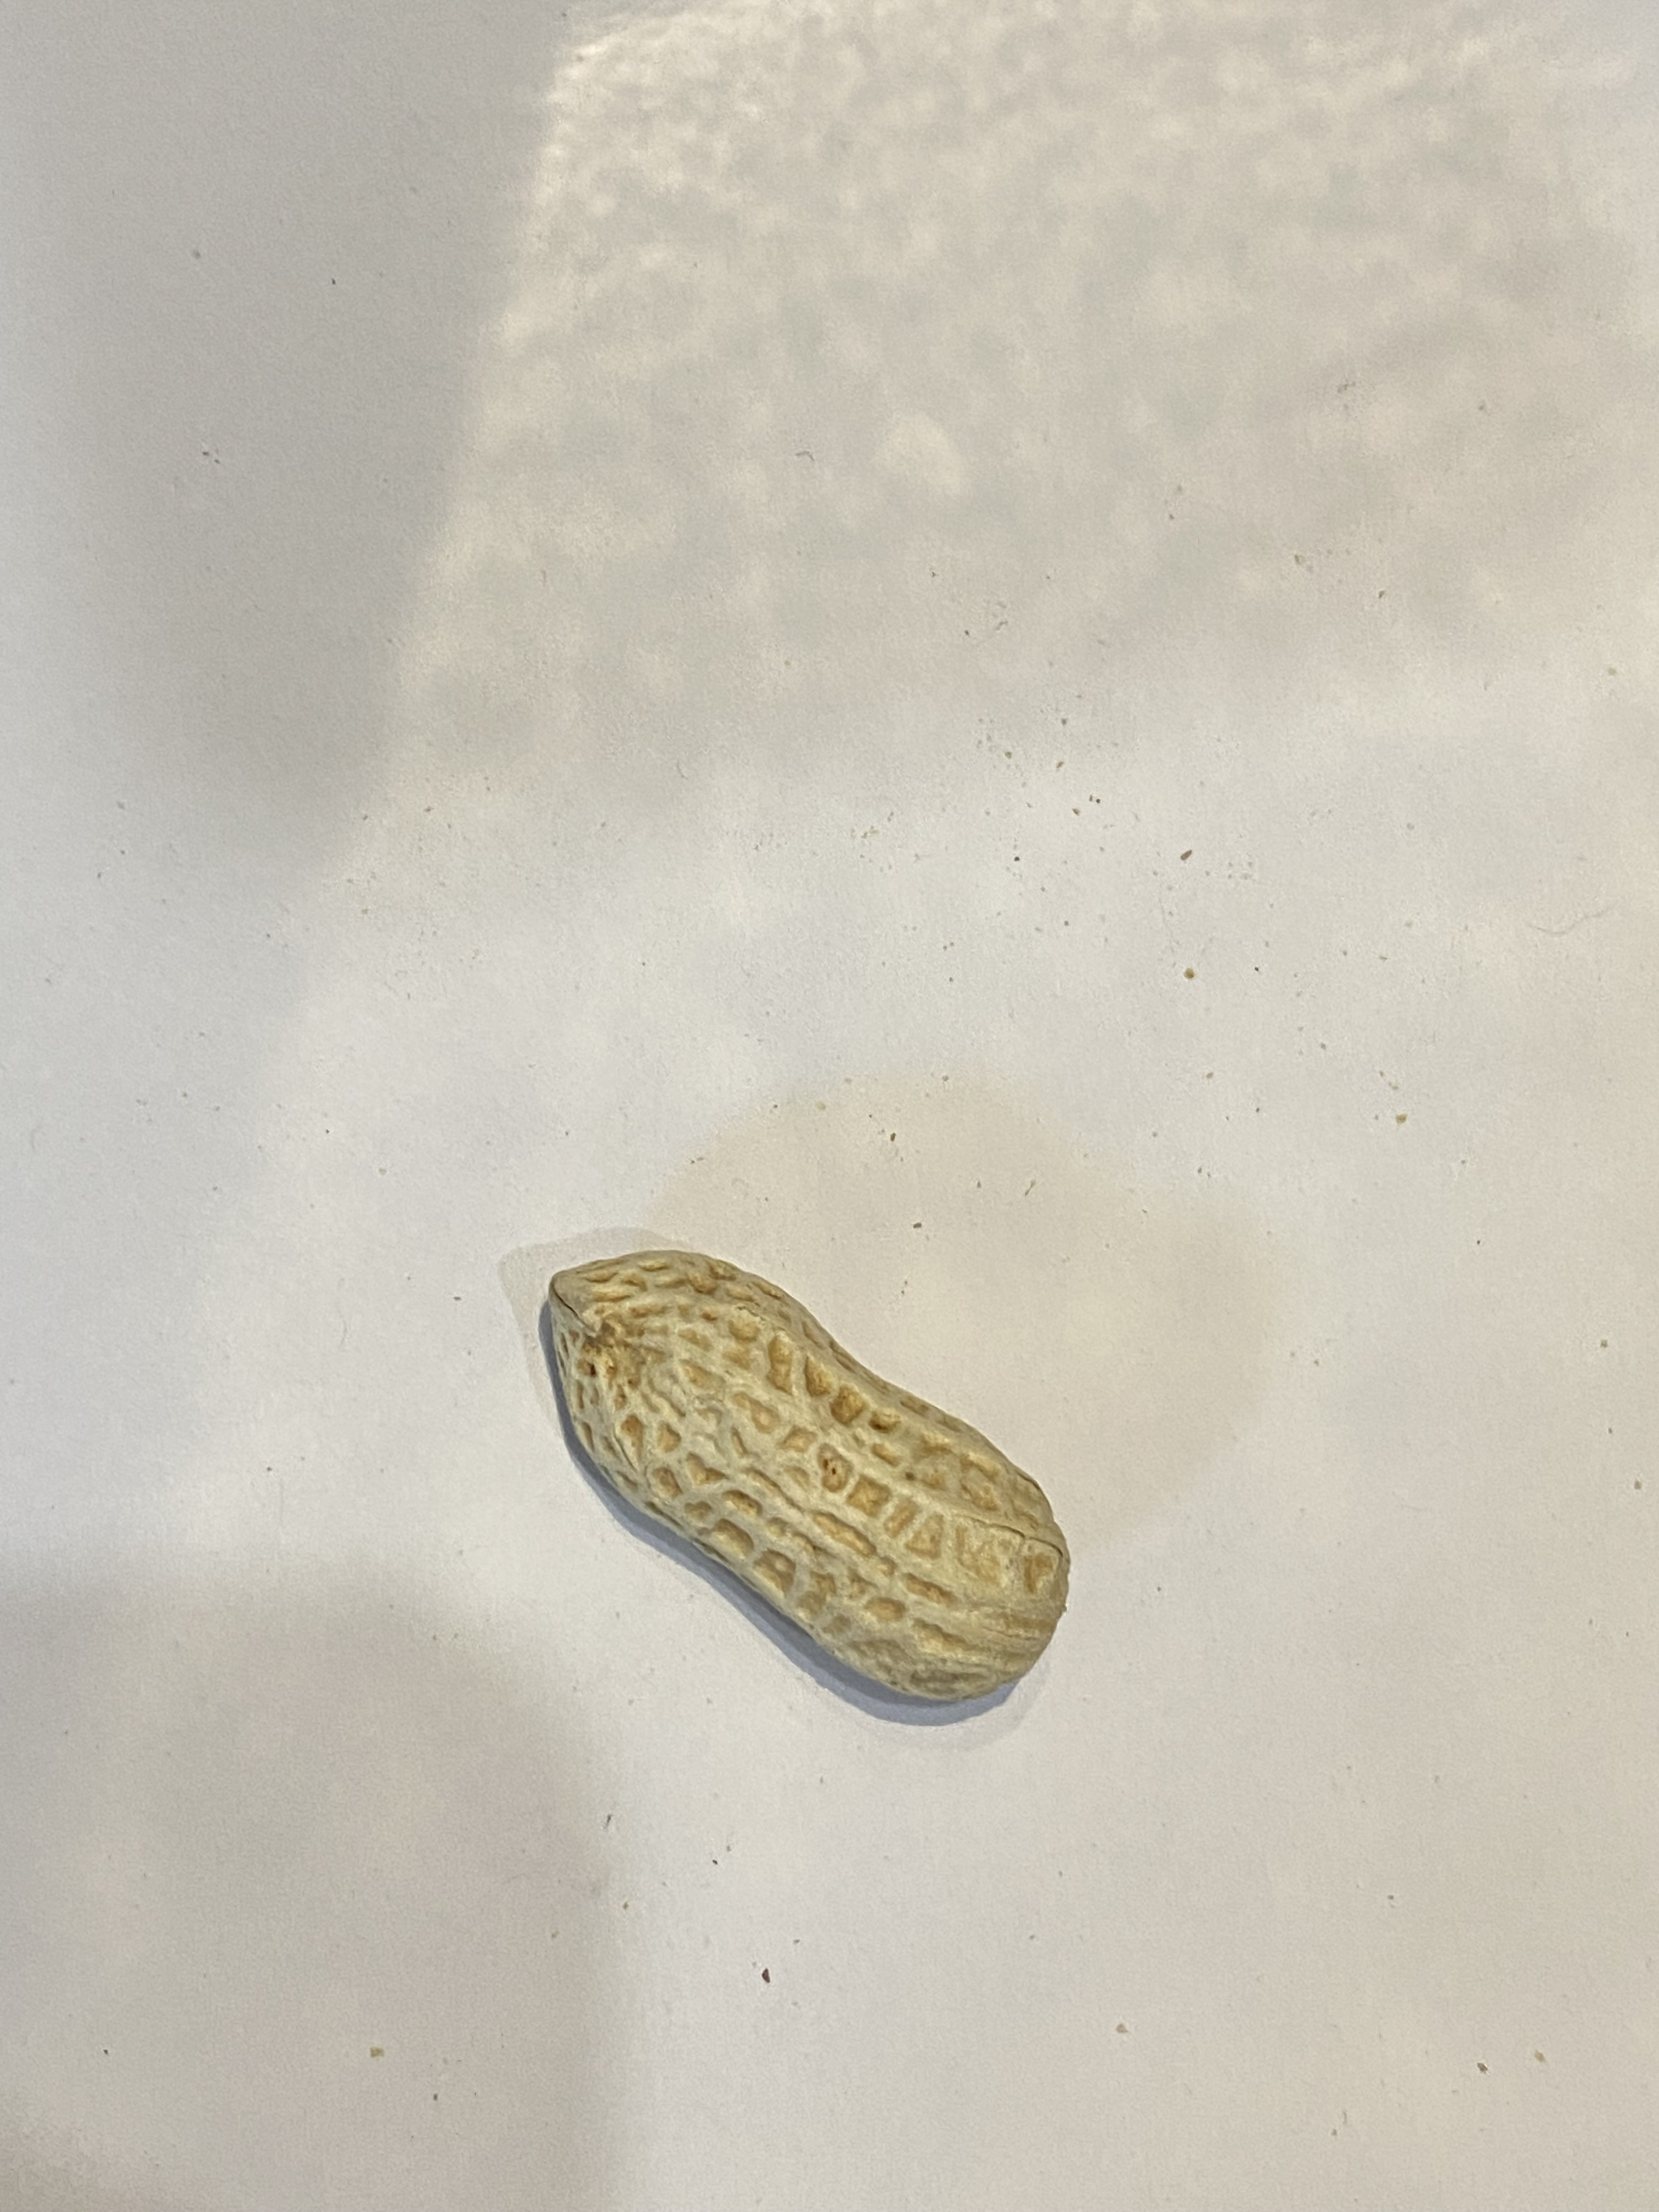kacang2: (519, 1205, 1073, 1712)
